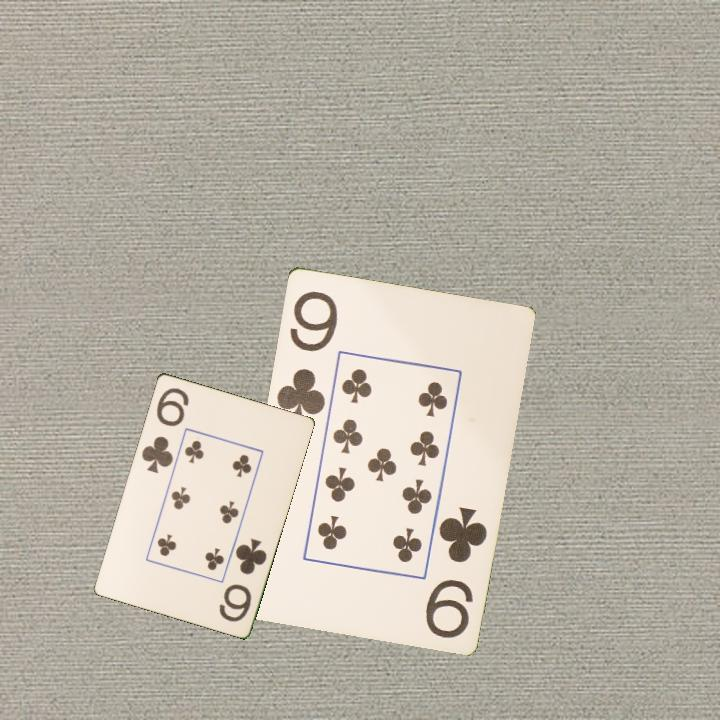6c: (215, 534, 270, 625), (138, 384, 192, 476)
9c: (272, 286, 340, 428), (421, 503, 490, 641)
